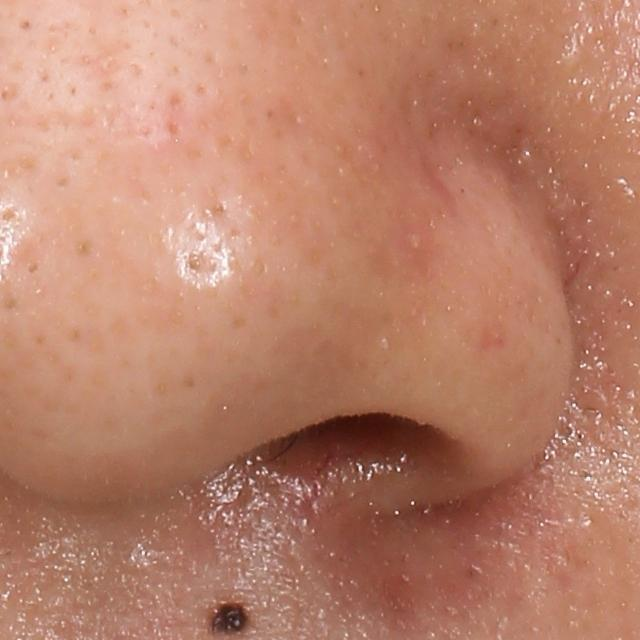nevus: (208, 598, 249, 637)
